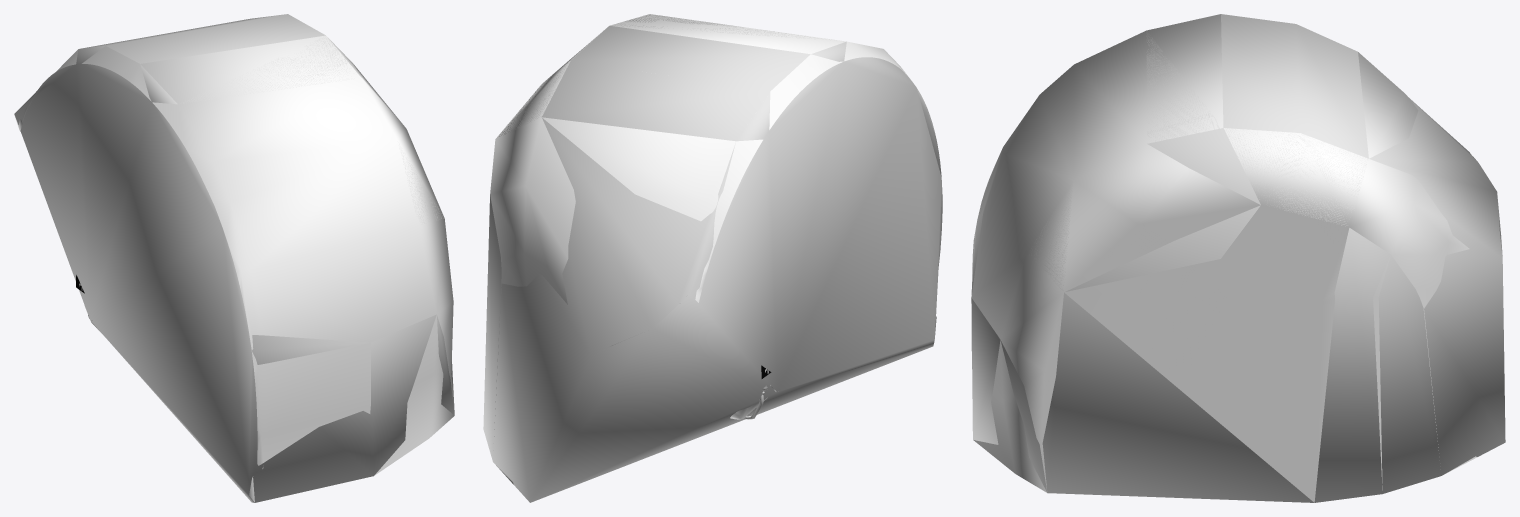
The picture shows the model from 3 angles, left to right: view 1: azimuth 30°, elevation 25°; view 2: azimuth 150°, elevation 25°; view 3: azimuth 270°, elevation 25°; orthographic projection. The views are drawn at different scales.
Visible parts, largest first — view 1: hub_eclipse_front_01, hub_eclipse_front_01_col; view 2: hub_eclipse_front_01_col, hub_eclipse_front_01; view 3: hub_eclipse_front_01, hub_eclipse_front_01_col.
Part boxes in pixels (x1=…): hub_eclipse_front_01: x1=15, y1=35, x2=454, y2=502; hub_eclipse_front_01_col: x1=14, y1=14, x2=454, y2=502; hub_eclipse_front_01_col: x1=483, y1=15, x2=942, y2=502; hub_eclipse_front_01: x1=490, y1=14, x2=942, y2=484; hub_eclipse_front_01: x1=971, y1=14, x2=1502, y2=502; hub_eclipse_front_01_col: x1=971, y1=14, x2=1505, y2=502.
Bounding box in the file's own units: 0.4767 × 0.6283 × 0.8215.
Materials: 4 (4 with a texture image).
